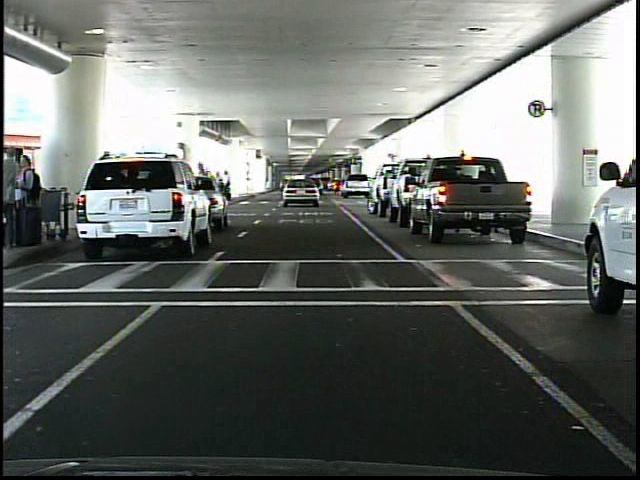person: (12, 155, 42, 250), (0, 148, 29, 246)
